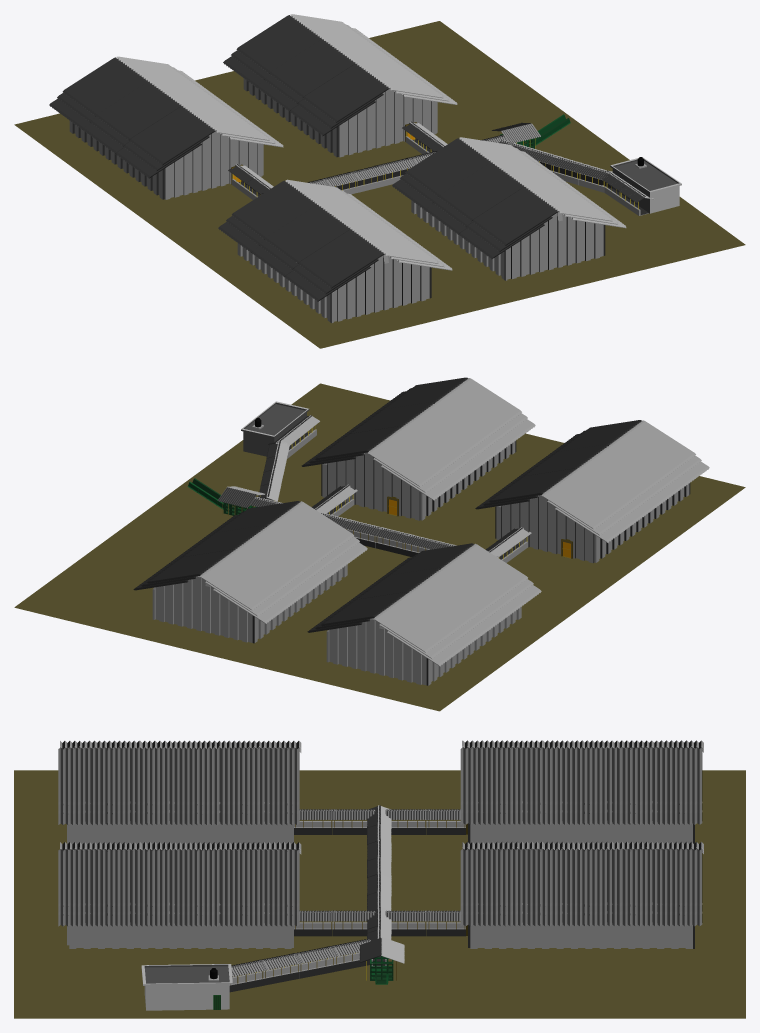
Rendered from Adaptacion.glb.
3 views of the same model, one above another, from view 1: azimuth 30°, elevation 25°; view 2: azimuth 150°, elevation 25°; view 3: azimuth 270°, elevation 25° (orthographic). The views are drawn at different scales.
Parts seen in each view (by area): view 1: Plane, Cube.001, Cube.003, Cube, Cube.002, Cube.009, Plane.032, Plane.018, Plane.030, Plane.029, Plane.019, Plane.034 (+2 smaller); view 2: Plane, Cube.002, Cube, Cube.001, Cube.003, Cube.009, Plane.032, Plane.018, Plane.019, Plane.009; view 3: Plane, Cube.002, Cube.003, Cube, Cube.001, Cube.009, Plane.032, Plane.028, Plane.029, Plane.007, Plane.008, Plane.006 (+12 smaller).
Part boxes in pixels (box(x1,y1,x2,y2)): Plane: box(14, 21, 745, 348); Cube.001: box(218, 179, 452, 323); Cube.003: box(392, 137, 626, 280); Cube: box(49, 56, 283, 199); Cube.002: box(223, 14, 457, 157); Cube.009: box(610, 157, 681, 213); Plane.032: box(492, 114, 570, 148); Plane.018: box(347, 165, 387, 192); Plane.030: box(575, 164, 612, 192); Plane.029: box(548, 156, 588, 185); Plane.019: box(374, 157, 417, 185); Plane.034: box(617, 183, 653, 215); Plane: box(14, 383, 745, 711); Cube.002: box(133, 501, 367, 643); Cube: box(307, 543, 541, 685); Cube.001: box(475, 420, 709, 563); Cube.003: box(301, 377, 535, 520); Cube.009: box(241, 401, 309, 456); Plane.032: box(187, 478, 264, 515); Plane.018: box(372, 527, 413, 554); Plane.019: box(342, 519, 384, 548); Plane.009: box(322, 484, 357, 516); Plane: box(14, 770, 745, 1018); Cube.002: box(460, 841, 703, 948); Cube.003: box(58, 842, 301, 948); Cube: box(460, 740, 703, 843); Cube.001: box(58, 740, 301, 844); Cube.009: box(141, 964, 232, 1010); Plane.032: box(359, 937, 404, 984); Plane.028: box(290, 946, 339, 978); Plane.029: box(255, 953, 303, 985); Plane.007: box(385, 910, 429, 936); Plane.008: box(330, 910, 375, 936); Plane.006: box(425, 910, 465, 936).
Bounding box in the file's own units: 52.8 × 7.19 × 65.8.
